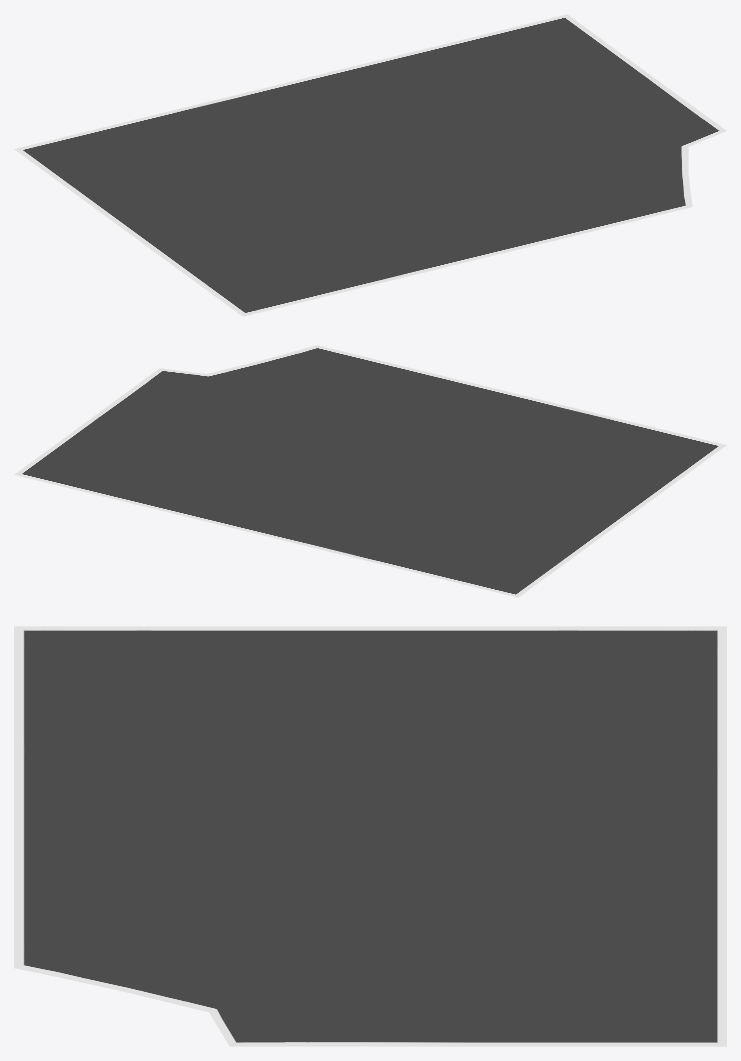
File: QuarterIce.fbx
3 views of the same model, one above another, from view 1: azimuth 30°, elevation 25°; view 2: azimuth 150°, elevation 25°; view 3: azimuth 270°, elevation 25° (orthographic). The views are drawn at different scales.
Visible parts, largest first — view 1: LeftQuarterIce; view 2: LeftQuarterIce; view 3: LeftQuarterIce.
Part boxes in pixels (x1,y1,x2,y2): LeftQuarterIce: (14,14,726,316); LeftQuarterIce: (14,345,726,597); LeftQuarterIce: (14,626,726,1046).
Bounding box in the file's own units: 964 × 0 × 691.
